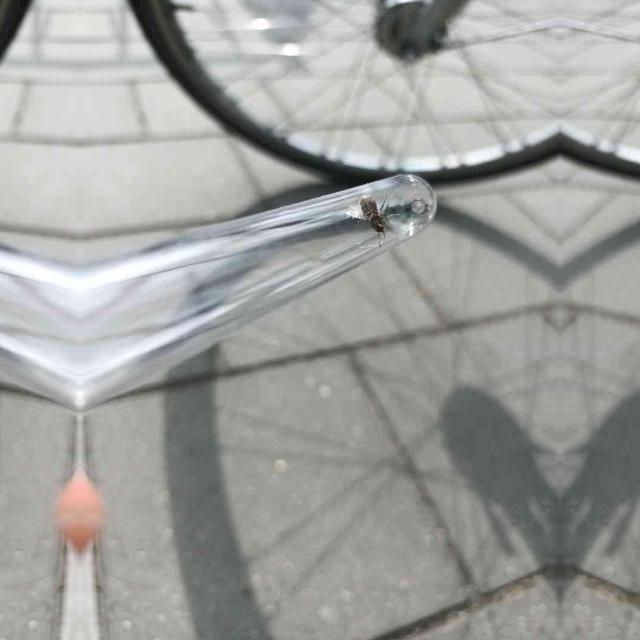Lasius: (347, 188, 395, 244)
